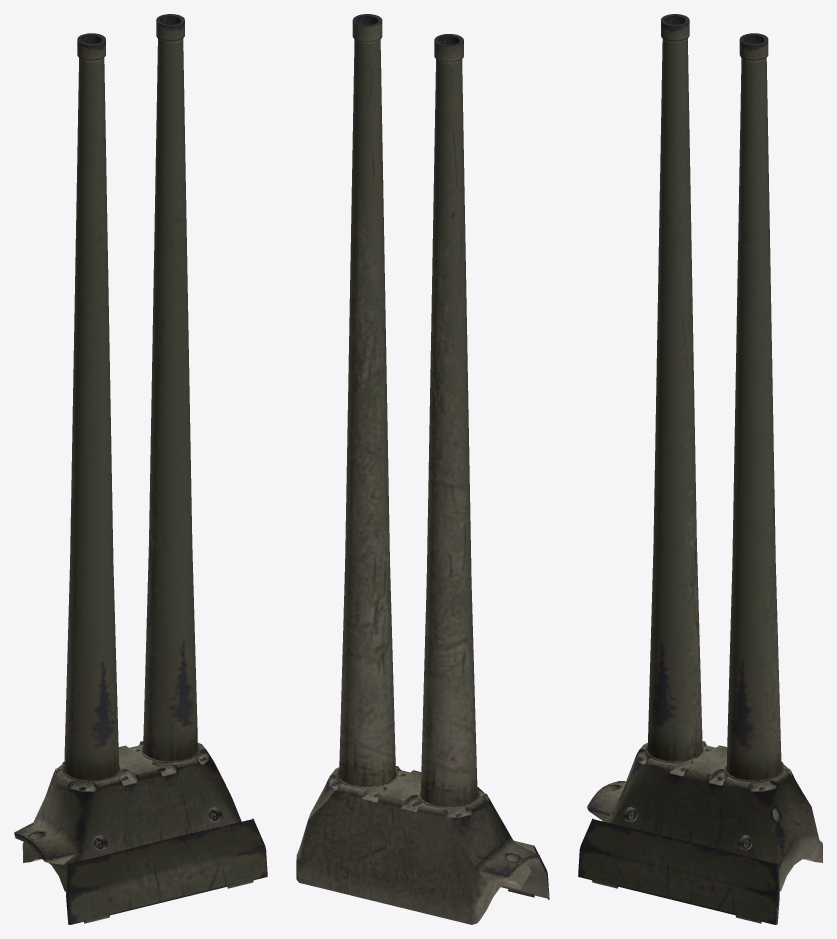
The model's file is Gun_04.glb.
The picture shows the model from 3 angles, left to right: view 1: azimuth 30°, elevation 25°; view 2: azimuth 150°, elevation 25°; view 3: azimuth 330°, elevation 25°; orthographic projection. The views are drawn at different scales.
Visible parts, largest first — view 1: set_0_group_0; view 2: set_0_group_0; view 3: set_0_group_0.
Boxes of the visible parts, x1,y1,x2,y2 form: set_0_group_0: [14, 14, 267, 924]; set_0_group_0: [296, 14, 549, 924]; set_0_group_0: [578, 14, 822, 924].
Size of the model in its own units: 1.15 by 4.5 by 0.5816.
Materials: 1 (1 with a texture image).
